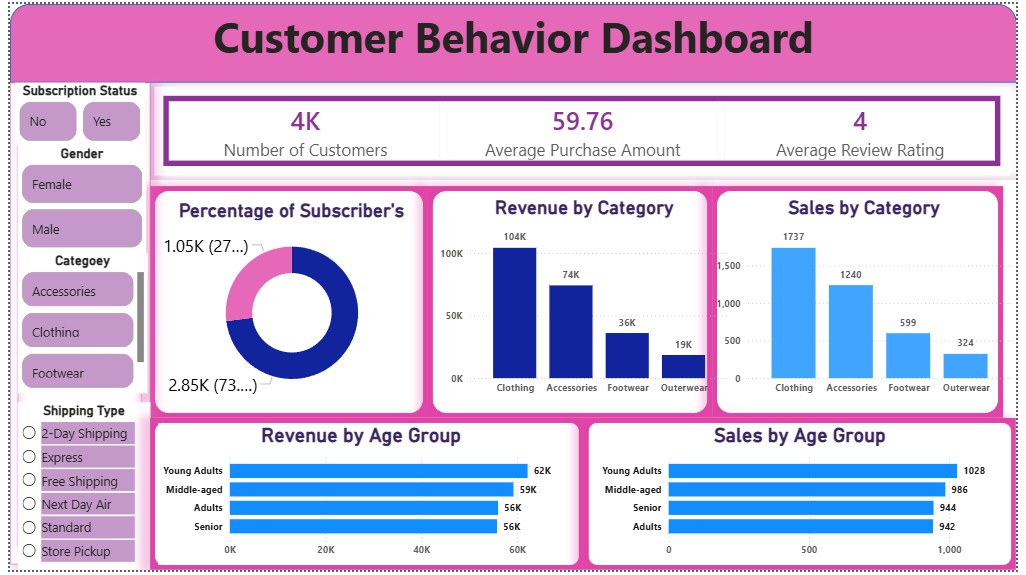

Layout of this report page (visuals, bound fields, positions):
{"tool":"powerbi","page":{"name":"Page 1","canvas":[1280,720],"ordinal":0},"visuals":[{"type":"cardVisual","fields":{"Data":["customer_shopping_behavior_cleaned.Number of Customers","customer_shopping_behavior_cleaned.Average Purchase Amount","customer_shopping_behavior_cleaned.Average Review Rating","customer_shopping_behavior_cleaned.Average Purchase Amount"]},"box":[178.3,100,1101.7,123.3],"z":0},{"type":"actionButton","box":[0,0,100,40],"z":1},{"type":"shape","box":[0,0,1281.1,100],"z":2},{"type":"textbox","box":[0,0,1281.4,100],"z":3},{"type":"shape","box":[178.3,231.7,353.3,295],"z":4},{"type":"donutChart","title":"Percentage of Subscriber''s ","fields":{"Category":["customer_shopping_behavior_cleaned.subscription_status"],"Y":["CountNonNull(customer_shopping_behavior_cleaned.customer_id)"]},"box":[175,248.3,366.7,261.7],"z":5},{"type":"shape","box":[531.7,231.7,361.7,295],"z":6},{"type":"shape","box":[893.3,231.7,370,295],"z":7},{"type":"clusteredColumnChart","title":"Revenue by Category","fields":{"Y":["Sum(customer_shopping_behavior_cleaned.purchase_amount)"],"Category":["customer_shopping_behavior_cleaned.category"]},"box":[541.7,245,378.3,261.7],"z":8},{"type":"clusteredColumnChart","title":"Sales by Category","fields":{"Y":["CountNonNull(customer_shopping_behavior_cleaned.customer_id)"],"Category":["customer_shopping_behavior_cleaned.category"]},"box":[893.3,245,386.7,261.7],"z":9},{"type":"shape","box":[0,100,178.3,613.3],"z":10},{"type":"advancedSlicerVisual","title":"Subscription Status","fields":{"Values":["customer_shopping_behavior_cleaned.subscription_status"]},"box":[6.7,100,165,80],"z":12},{"type":"advancedSlicerVisual","title":"Gender","fields":{"Values":["customer_shopping_behavior_cleaned.gender"]},"box":[10,180,163.3,136.7],"z":13},{"type":"advancedSlicerVisual","title":"Categoey","fields":{"Values":["customer_shopping_behavior_cleaned.category"]},"box":[10,316.7,165,178.3],"z":14},{"type":"listSlicer","title":"Shipping Type","fields":{"Values":["customer_shopping_behavior_cleaned.shipping_type"]},"box":[10,506.7,168.3,213.3],"z":15},{"type":"shape","box":[178.3,526.7,551.7,193.3],"z":17},{"type":"clusteredBarChart","title":"Revenue by Age Group","fields":{"Category":["customer_shopping_behavior_cleaned.age_group"],"Y":["Sum(customer_shopping_behavior_cleaned.purchase_amount)"]},"box":[188.3,533.3,516.7,180],"z":18},{"type":"shape","box":[730,526.7,550,193.3],"z":19},{"type":"clusteredBarChart","title":"Sales by Age Group","fields":{"Category":["customer_shopping_behavior_cleaned.age_group"],"Y":["CountNonNull(customer_shopping_behavior_cleaned.customer_id)"]},"box":[746.7,533.3,516.7,180],"z":20}]}

Visuals, with their boxes in screenshot pixels (x1, y1, x2, y2), scaled from the page's 1280x720 canvas onto the 1026x575 screenshot:
cardVisual - customer_shopping_behavior_cleaned.Number of Customers x customer_shopping_behavior_cleaned.Average Purchase Amount: 143 80 1025 178
actionButton: 0 0 80 32
shape: 0 0 1025 80
textbox: 0 0 1025 80
shape: 143 185 426 421
"Percentage of Subscriber''s " donutChart: 140 198 434 407
shape: 426 185 716 421
shape: 716 185 1013 421
"Revenue by Category" clusteredColumnChart: 434 196 737 405
"Sales by Category" clusteredColumnChart: 716 196 1025 405
shape: 0 80 143 570
"Subscription Status" advancedSlicerVisual: 5 80 138 144
"Gender" advancedSlicerVisual: 8 144 139 253
"Categoey" advancedSlicerVisual: 8 253 140 395
"Shipping Type" listSlicer: 8 405 143 574
shape: 143 421 585 574
"Revenue by Age Group" clusteredBarChart: 151 426 565 570
shape: 585 421 1025 574
"Sales by Age Group" clusteredBarChart: 599 426 1013 570
